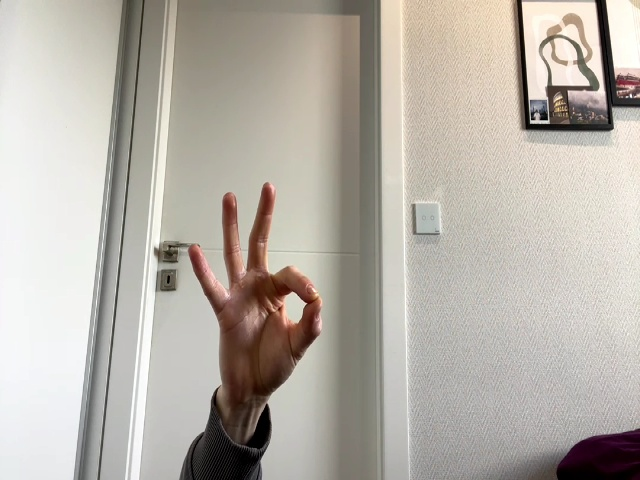O: (189, 183, 322, 390)
